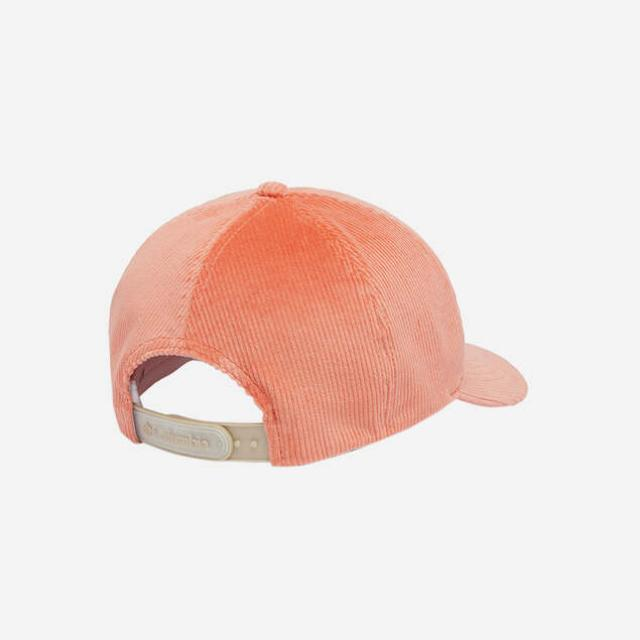no_helmet: (93, 162, 537, 477)
